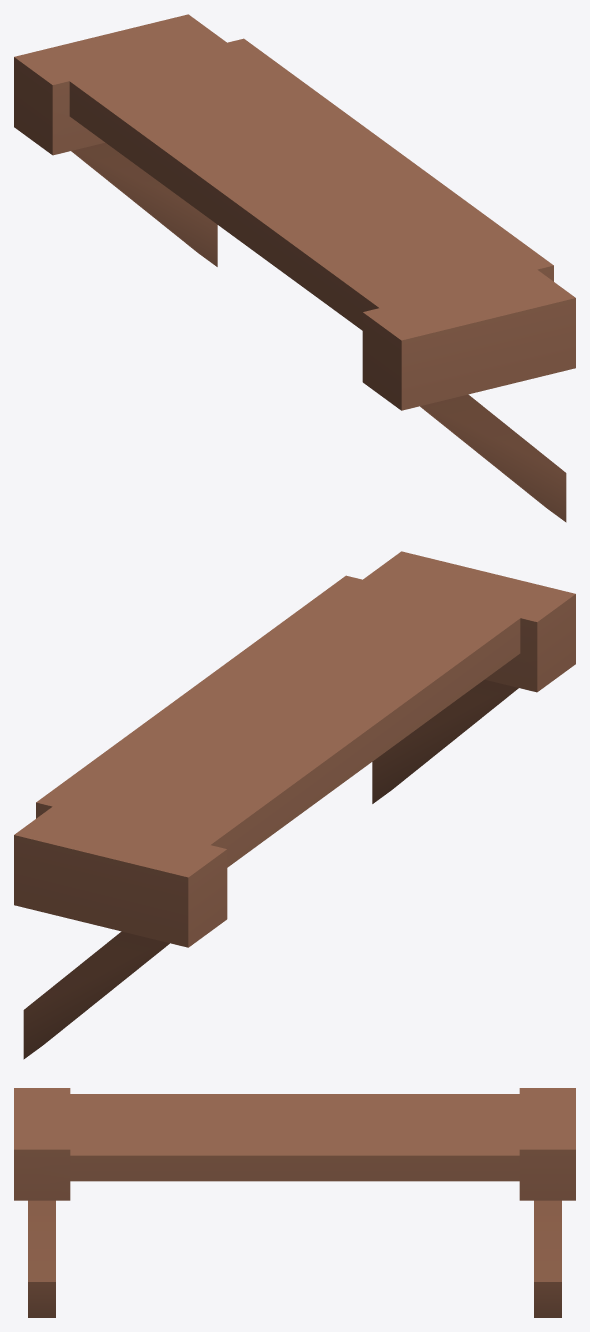
Rendered from overhang.glb.
3 views of the same model, one above another, from view 1: azimuth 30°, elevation 25°; view 2: azimuth 150°, elevation 25°; view 3: azimuth 270°, elevation 25° (orthographic). The views are drawn at different scales.
Parts seen in each view (by area): view 1: overhang; view 2: overhang; view 3: overhang.
Part boxes in pixels (x1,y1,x2,y2): overhang: (14, 14, 575, 522); overhang: (14, 551, 575, 1059); overhang: (14, 1088, 575, 1317).
Size of the model in its own units: 0.8549 by 0.99 by 3.
